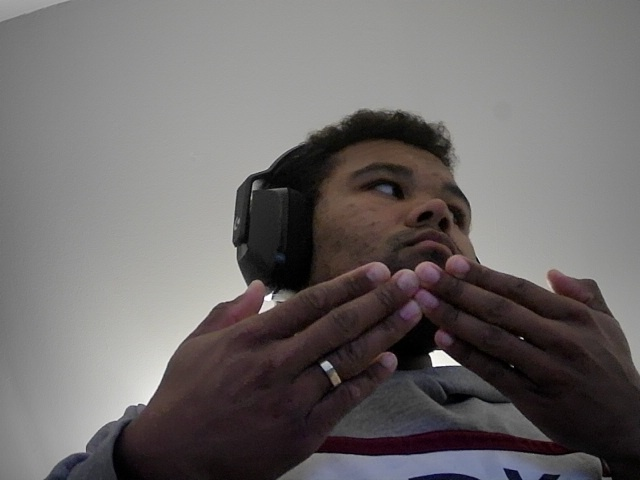ThankYou: (112, 251, 639, 480)
